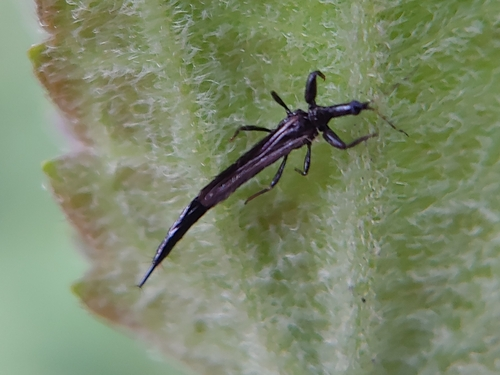Phlaeothripidae: (139, 63, 409, 290)
